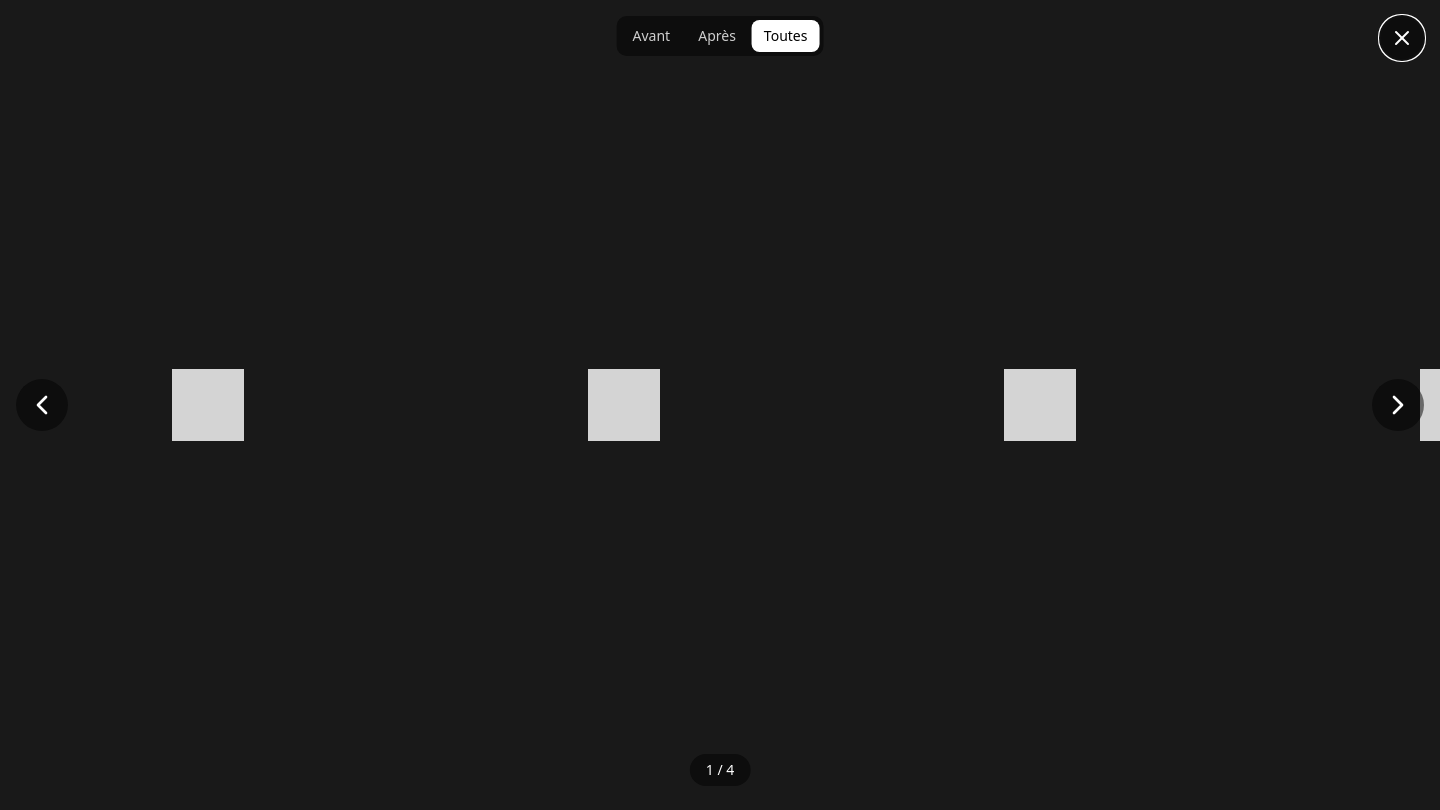
Test: PhotoGalleryDialog › shows all photos when Toutes tab is clicked after filtering
// Switch to Avant then back to Toutes
Click the button "Avant": (651,36) [621, 20, 682, 52]
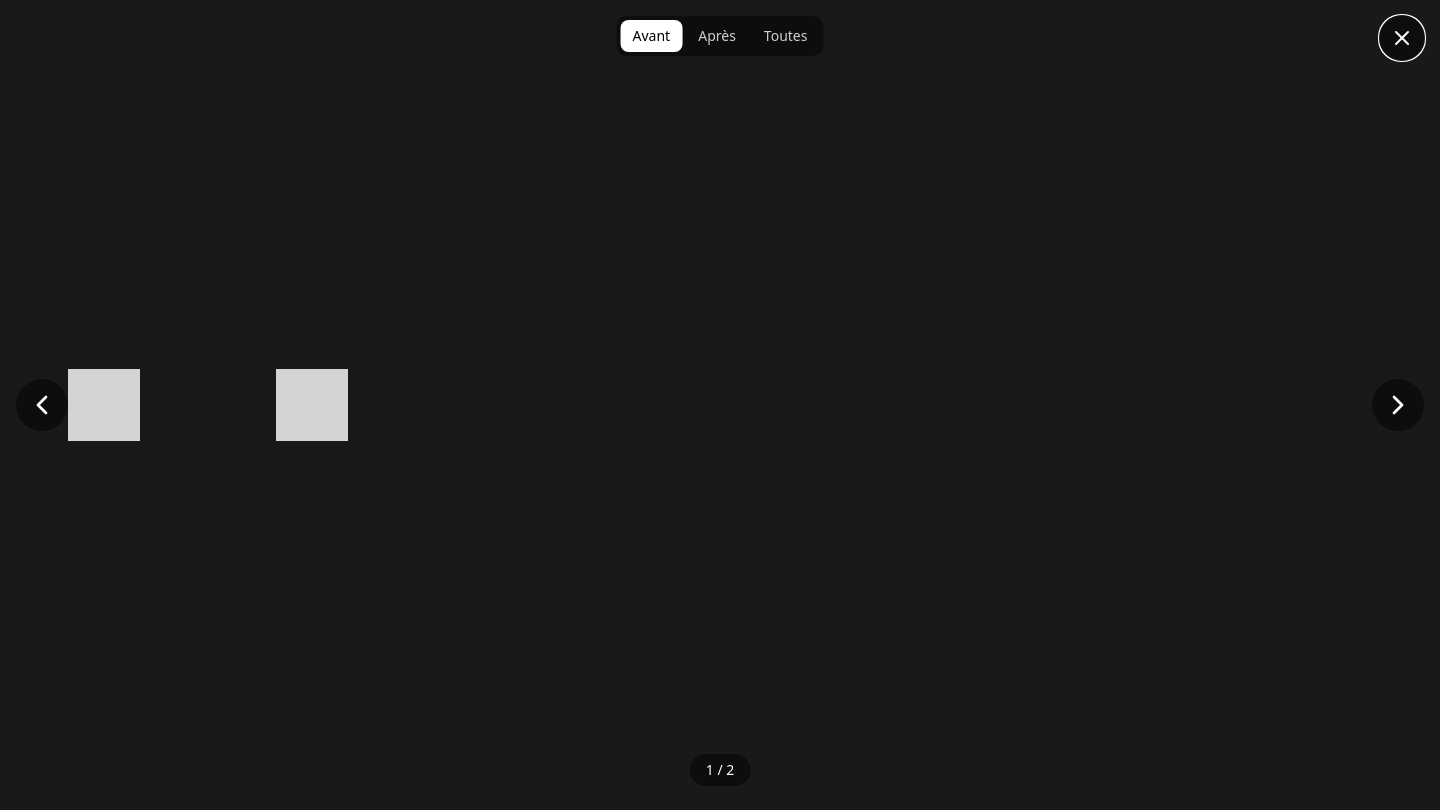
Click the button "Toutes": (786,36) [752, 20, 820, 52]
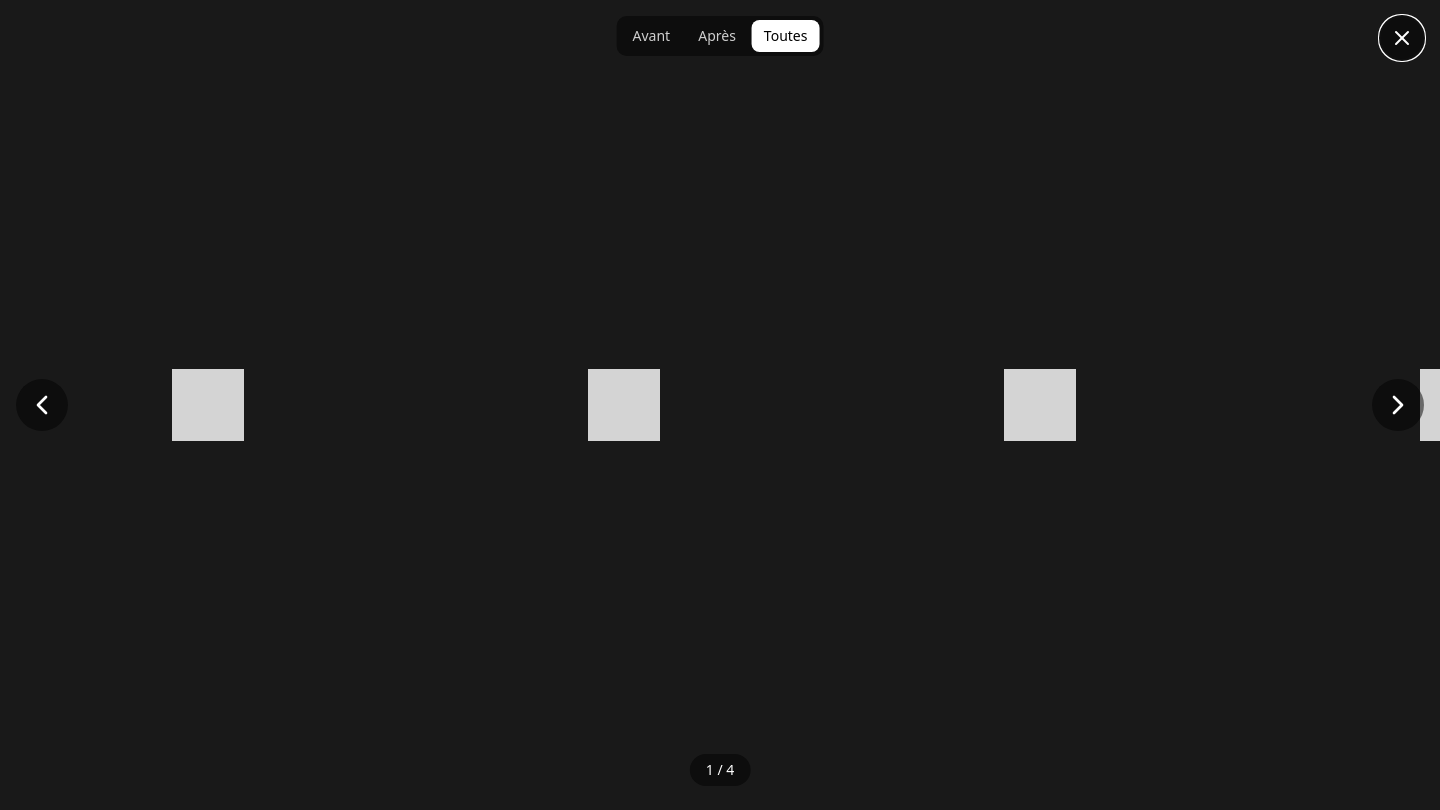
Result: the text "1 / 4" is shown at [690, 754, 750, 786]
